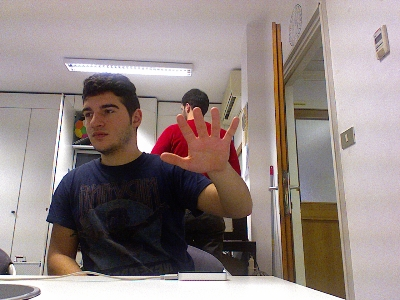布: (158, 105, 239, 175)
